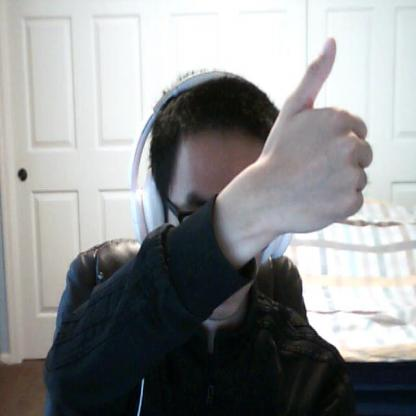Thumbs-Up: (254, 34, 376, 239)
